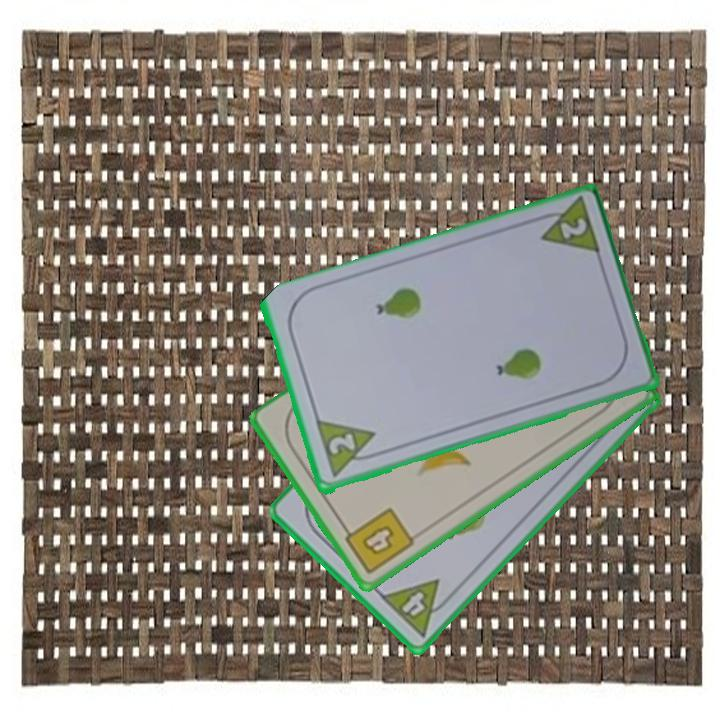2p: (529, 196, 604, 259), (324, 430, 358, 459)
4b: (337, 504, 418, 578)
4p: (376, 575, 457, 640)
